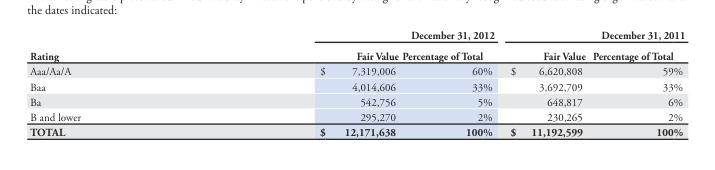table: (29, 28, 684, 138)
table column: (199, 28, 399, 138), (29, 28, 199, 138), (399, 28, 501, 138), (588, 28, 684, 138), (501, 28, 588, 138)
table column header: (29, 28, 684, 63)
table row: (29, 45, 684, 63), (29, 28, 684, 45), (29, 78, 684, 94), (29, 63, 684, 78), (29, 94, 684, 109), (29, 109, 684, 124), (29, 124, 684, 138)
table spanning cell: (29, 28, 199, 63), (199, 28, 501, 45), (501, 28, 684, 45)
